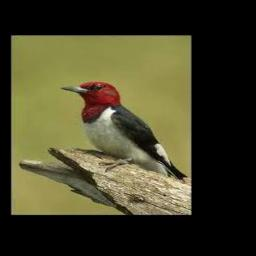Woodpecker: (60, 81, 188, 180)
